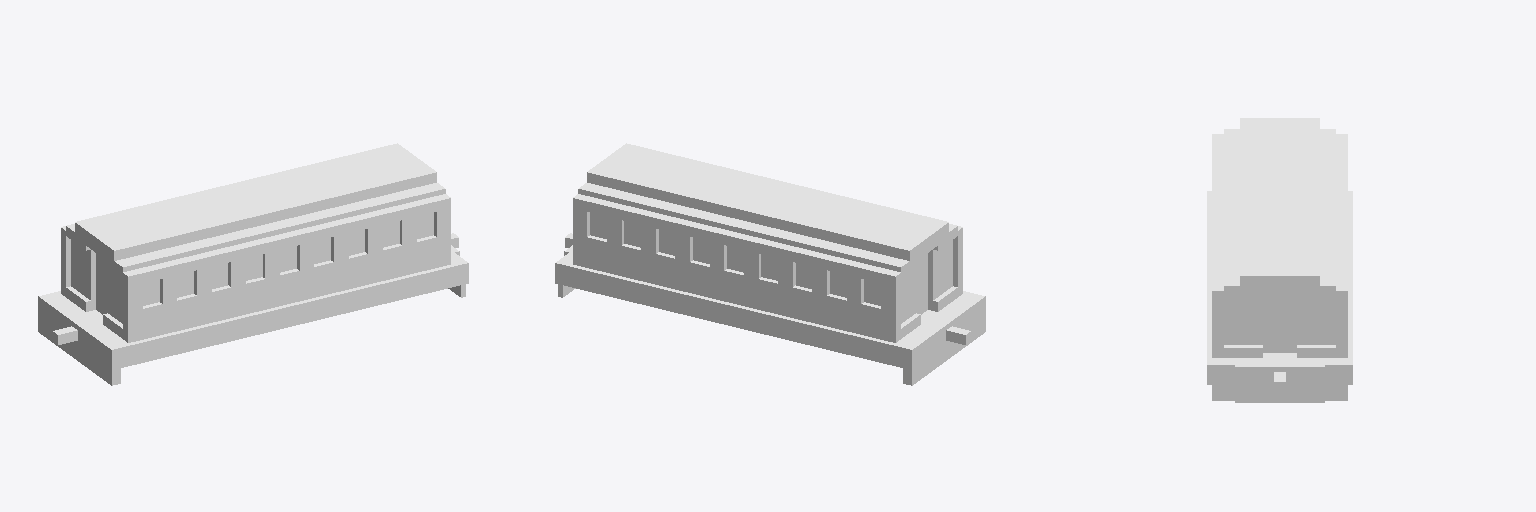
File: Train1-2.obj
3 views of the same model, side by side, from view 1: azimuth 30°, elevation 25°; view 2: azimuth 150°, elevation 25°; view 3: azimuth 270°, elevation 25° (orthographic).
Parts seen in each view (by area): view 1: object 1; view 2: object 1; view 3: object 1.
Boxes of the visible parts, x1,y1,x2,y2 form: object 1: [38, 143, 468, 385]; object 1: [555, 143, 985, 385]; object 1: [1207, 118, 1352, 402].
Size of the model in its own units: 8.2 by 2.3 by 2.6.